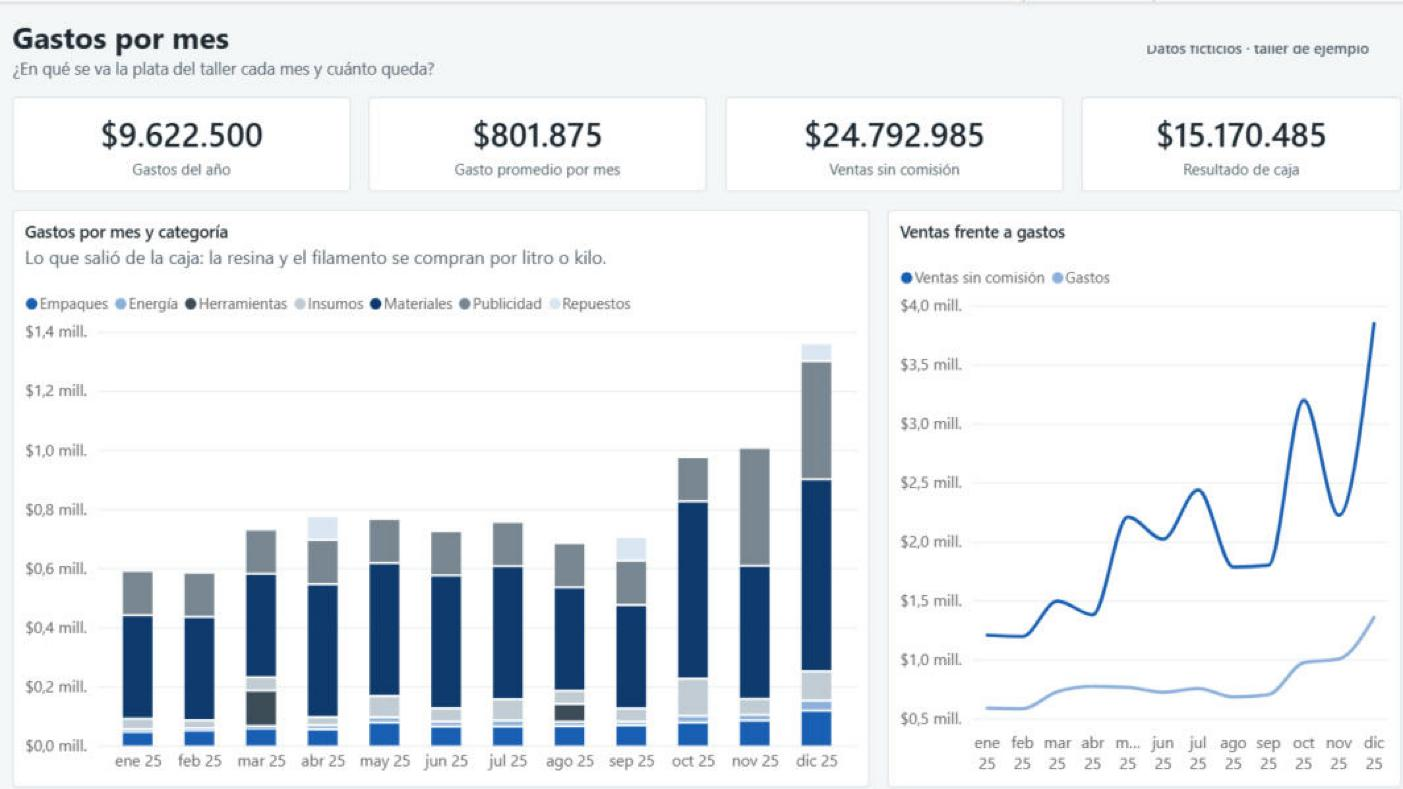

What the dashboard file says about the page in this screenshot:
{"tool":"powerbi","page":{"name":"Gastos por mes","canvas":[1280,720],"ordinal":2},"visuals":[{"type":"textbox","box":[24,12,900,64],"z":0},{"type":"card","fields":{"Values":["Medidas.Origen de los datos"]},"box":[1000,12,256,56],"z":1000},{"type":"card","fields":{"Values":["Medidas.Gastos"]},"box":[24,84,300,84],"z":2000},{"type":"card","fields":{"Values":["Medidas.Gasto promedio por mes"]},"box":[340,84,300,84],"z":3000},{"type":"card","fields":{"Values":["Medidas.Ventas menos comisiones"]},"box":[656,84,300,84],"z":4000},{"type":"card","fields":{"Values":["Medidas.Resultado de caja"]},"box":[972,84,284,84],"z":5000},{"type":"columnChart","title":"Gastos por mes y categoría","fields":{"Category":["Calendario.Mes"],"Series":["Gastos.categoria"],"Y":["Medidas.Gastos"]},"box":[24,184,616,512],"z":6000},{"type":"lineChart","title":"Ventas frente a gastos","fields":{"Category":["Calendario.Mes"],"Y":["Medidas.Ventas menos comisiones","Medidas.Gastos"]},"box":[656,184,600,512],"z":7000}]}

Visuals, with their boxes in screenshot pixels (x1, y1, x2, y2), scaled from the page's 1280x720 canvas onto the 1403x789 screenshot:
textbox: select_region(26, 13, 1013, 83)
card - Medidas.Origen de los datos: select_region(1096, 13, 1377, 75)
card - Medidas.Gastos: select_region(26, 92, 355, 184)
card - Medidas.Gasto promedio por mes: select_region(373, 92, 702, 184)
card - Medidas.Ventas menos comisiones: select_region(719, 92, 1048, 184)
card - Medidas.Resultado de caja: select_region(1065, 92, 1377, 184)
"Gastos por mes y categoría" columnChart: select_region(26, 202, 702, 763)
"Ventas frente a gastos" lineChart: select_region(719, 202, 1377, 763)
